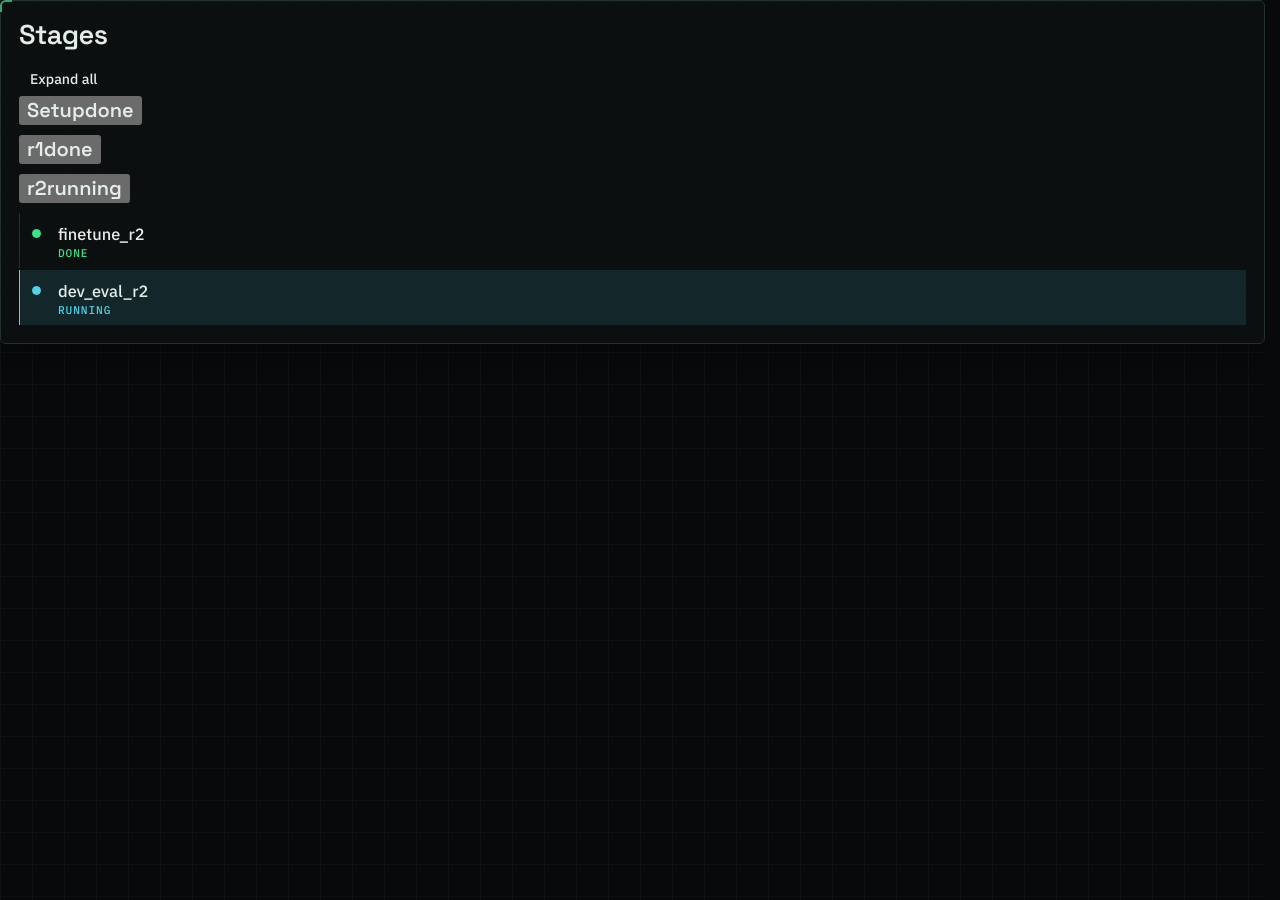
StageTimeline › collapses completed groups when asked to, keeps the active and the last group open, and lets the user reopen
The width and height of the screenshot is (1280, 900).
Click the 2nd button: (80, 110) [19,96,142,125]
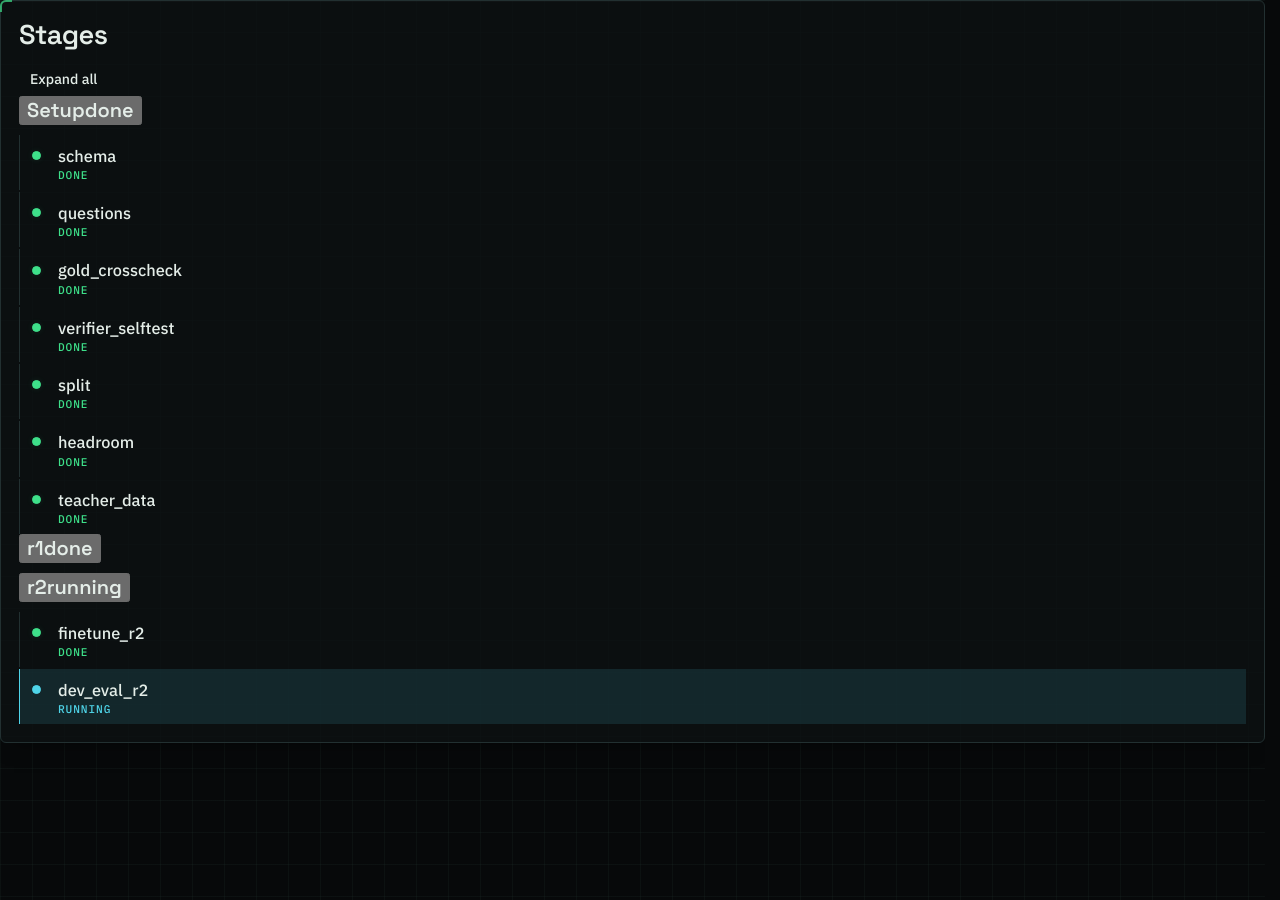
Expected: the text "schema" is shown, [58,145,116,166]
